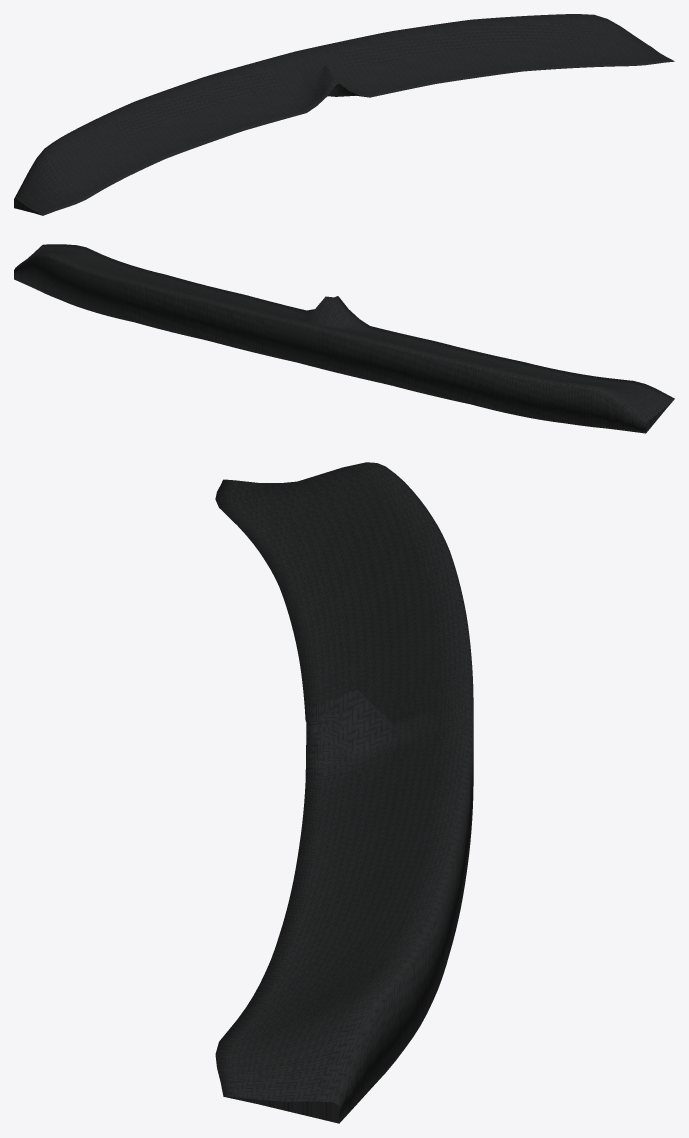
File: WB14_widebody_ducktail_carbon.glb
3 views of the same model, one above another, from view 1: azimuth 30°, elevation 25°; view 2: azimuth 150°, elevation 25°; view 3: azimuth 270°, elevation 25° (orthographic). The views are drawn at different scales.
Visible parts, largest first — view 1: MOD_ND_WB14_spoiler; view 2: MOD_ND_WB14_spoiler; view 3: MOD_ND_WB14_spoiler.
Part boxes in pixels (box(x1,y1,x2,y2)): MOD_ND_WB14_spoiler: box(14, 14, 674, 215); MOD_ND_WB14_spoiler: box(14, 244, 674, 433); MOD_ND_WB14_spoiler: box(215, 462, 473, 1123).
Bounding box in the file's own units: 0.96 × 0.0918 × 0.1698.
Materials: 1 (1 with a texture image).
